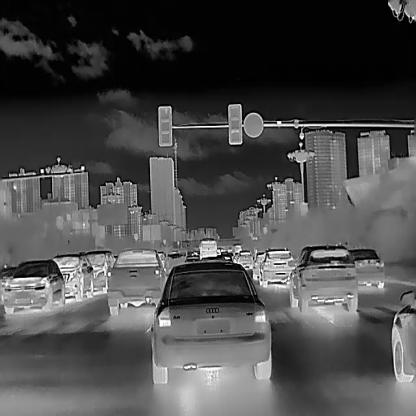car: (145, 262, 271, 384), (288, 244, 359, 311), (106, 247, 165, 314), (3, 257, 65, 314), (390, 289, 416, 382), (52, 253, 94, 300), (348, 244, 385, 286), (81, 249, 115, 294), (259, 246, 295, 287), (236, 249, 253, 267)
truck: (199, 236, 216, 256)
